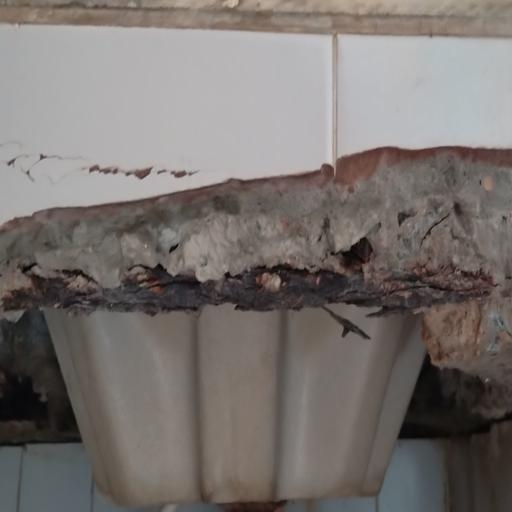spalling: (0, 129, 512, 509)
